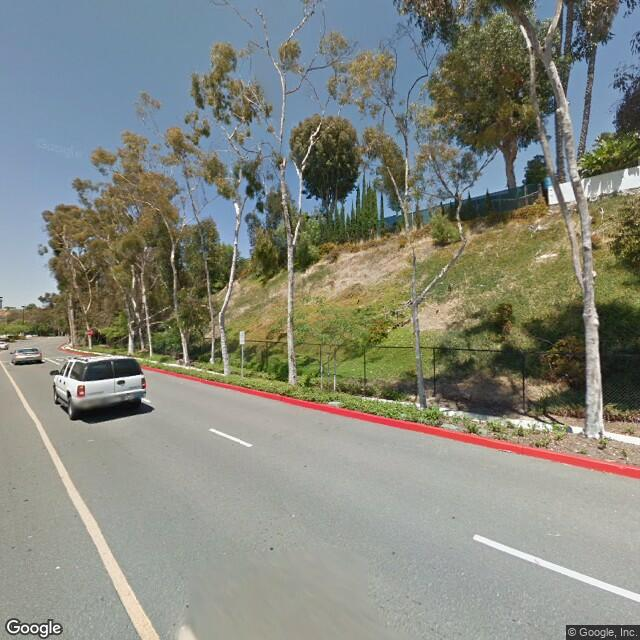litter: (496, 448, 512, 454), (612, 449, 619, 455), (607, 419, 613, 423)
